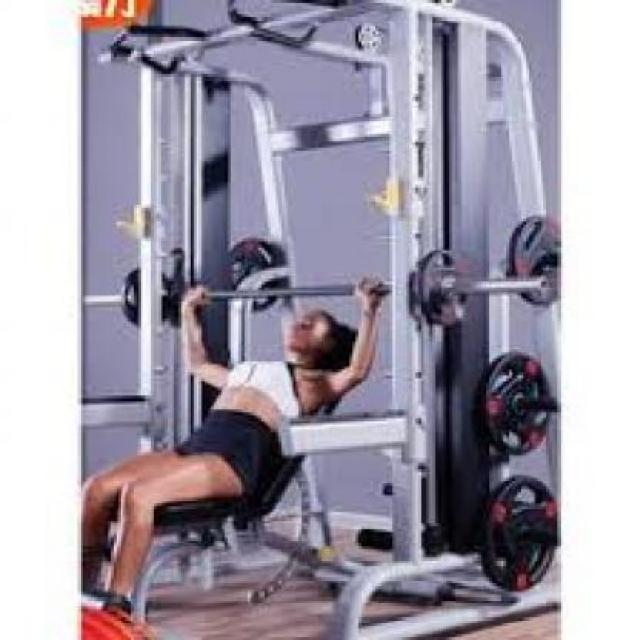smith machine: (98, 24, 556, 640)
